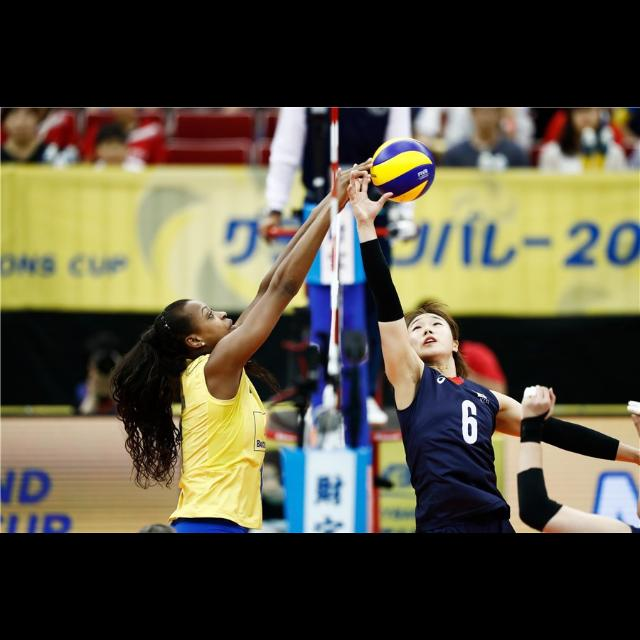head: (154, 298, 242, 364), (405, 311, 461, 361), (4, 108, 42, 146), (95, 125, 127, 163), (96, 127, 128, 165), (88, 354, 120, 388), (413, 317, 447, 349), (326, 106, 368, 128), (570, 107, 602, 133), (470, 106, 502, 132)
person: (266, 107, 420, 431), (397, 318, 507, 528), (429, 106, 531, 282), (537, 106, 629, 280), (78, 114, 162, 296), (70, 338, 144, 524), (82, 107, 168, 241), (0, 107, 66, 277)
